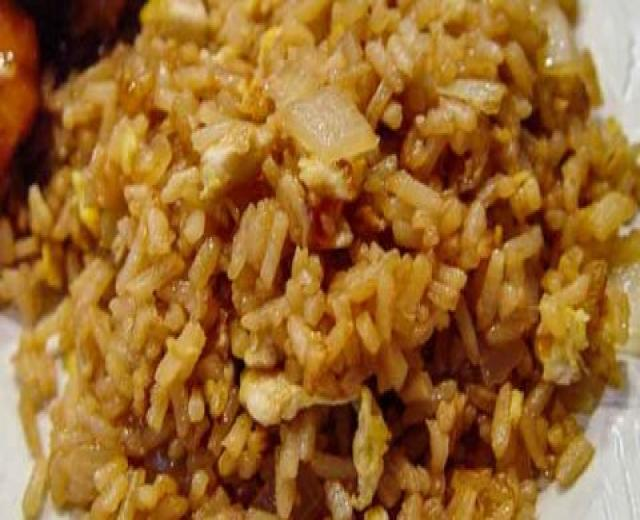fried rice: (2, 0, 630, 516)
